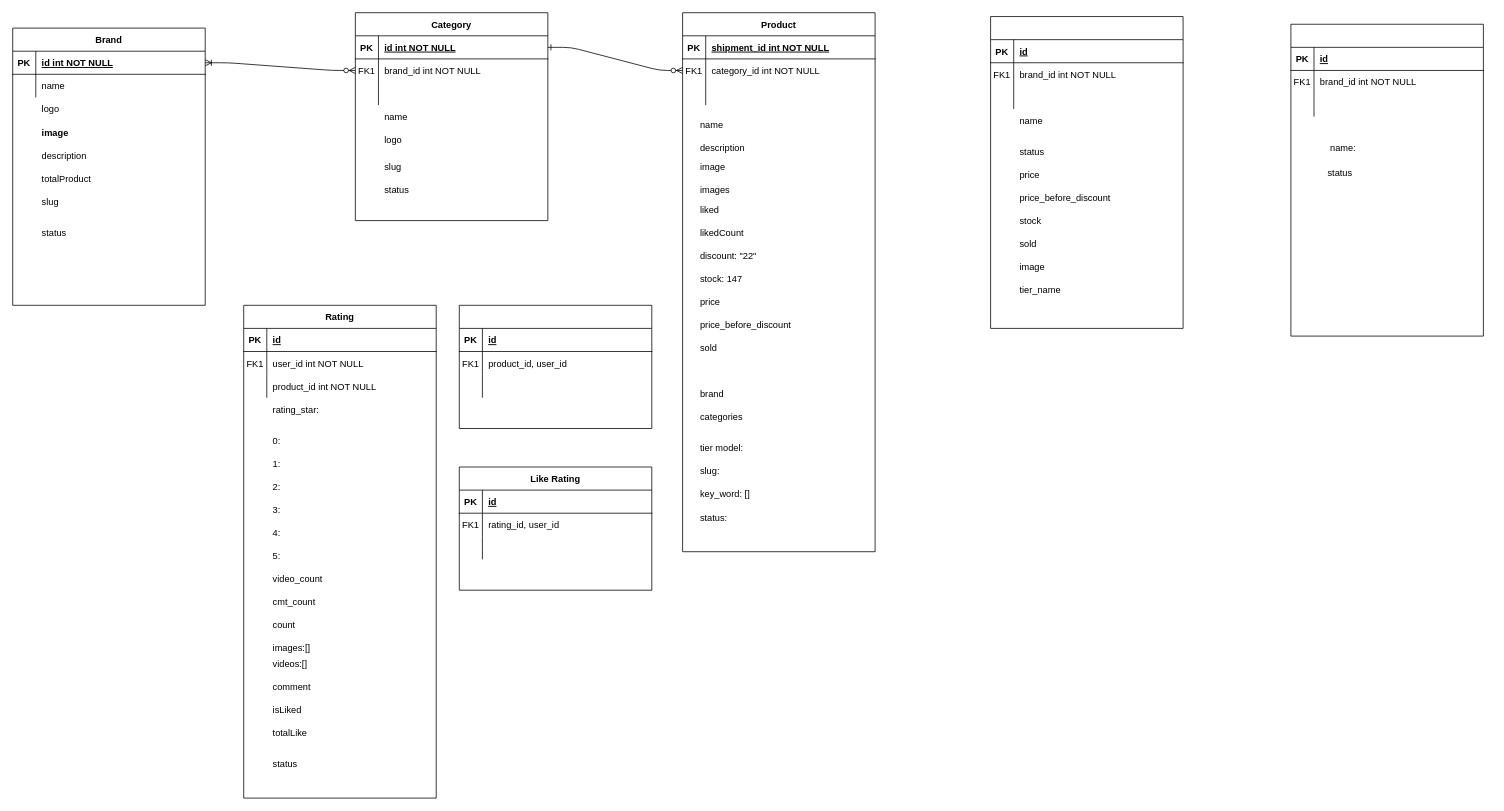
Image size: 1504x811. Some labels were removed from this diagram. The box of each missing label's shape, as (x1, y1, x2, y2) in pixels:
Like Product: (459, 305, 652, 429)
Model: (990, 16, 1183, 328)
Tier Model: (1290, 23, 1483, 336)
